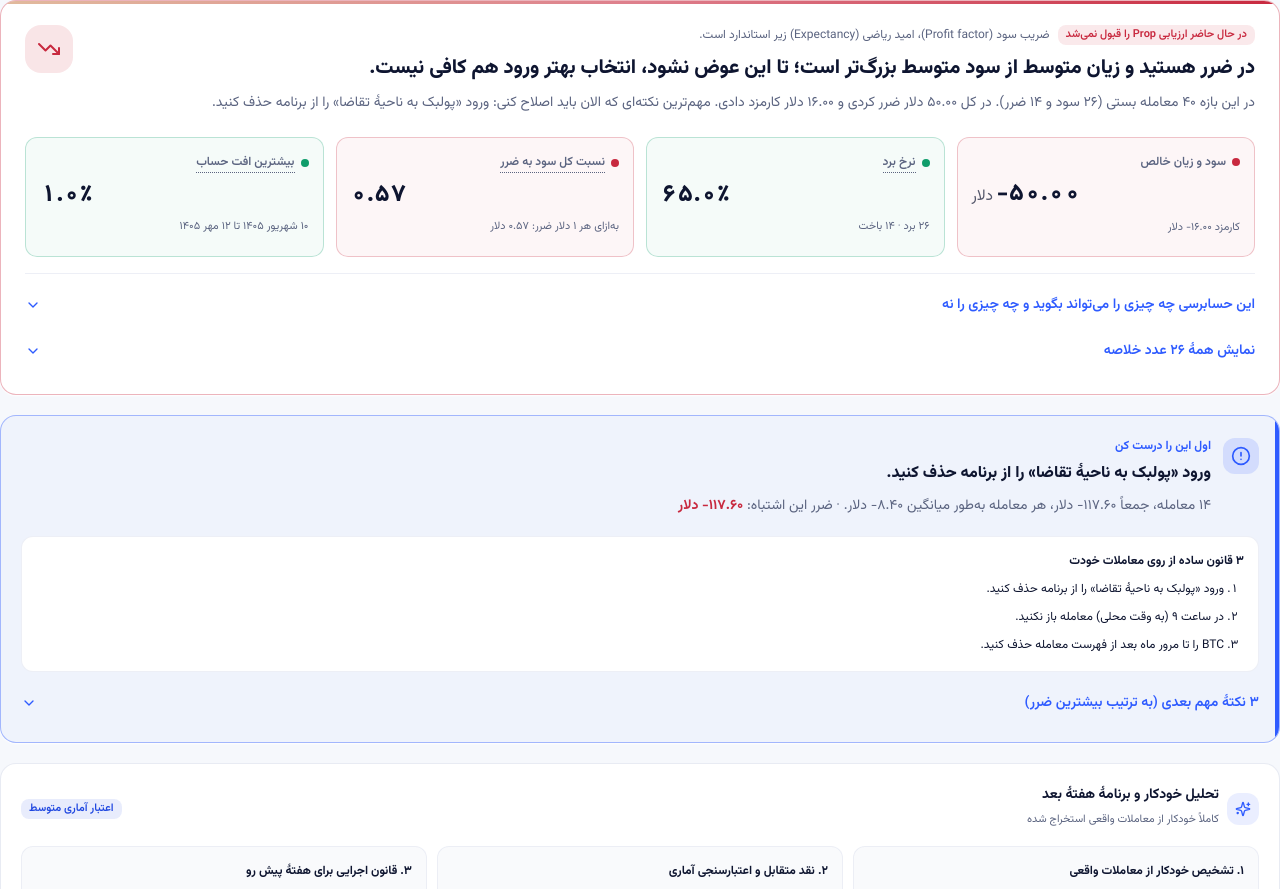
Test: تب‌های ژورنال › حسابرسی: حکم، اعتماد داده، کارنامه، «اول این را درست کن» و پیوست
Expected: the heading "این حسابرسی چه چیزی را می‌تواند بگوید و چه چیزی را نه" is shown, [25,294,1255,316]
Expected: the text "اول این را درست کن" is shown, [1115,437,1211,455]
اصطلاح آموزشی باز می‌شود
Click the button "نرخ برد".
click(899, 162)  # box [883,152,916,173]
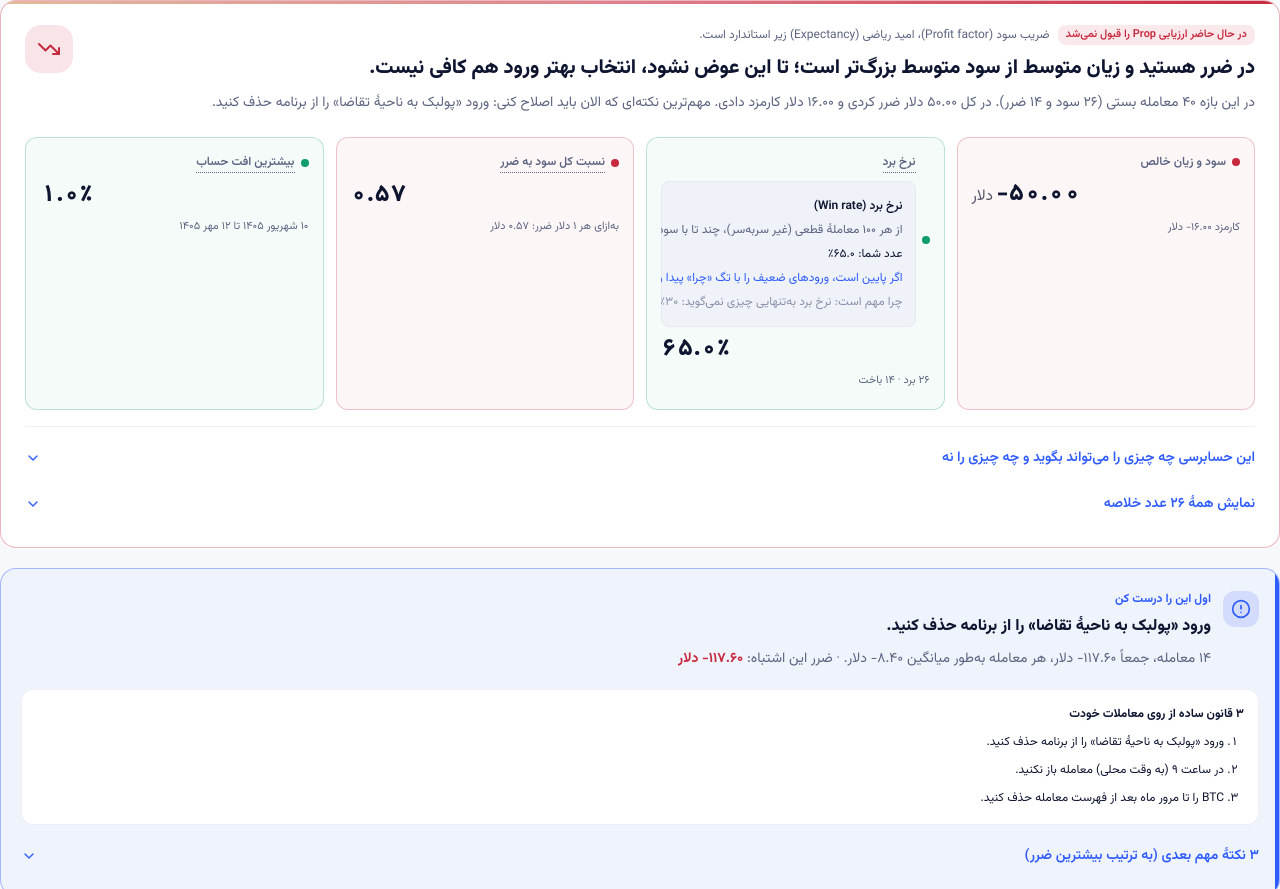
Now the element that starts with "نرخ برد (Win rate)" shows "عدد شما", box [855,245,902,263]
